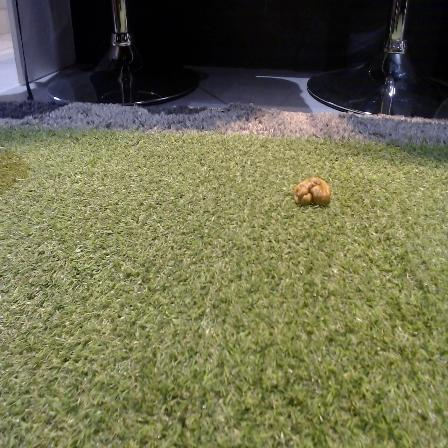dog-poop: (295, 174, 333, 208)
